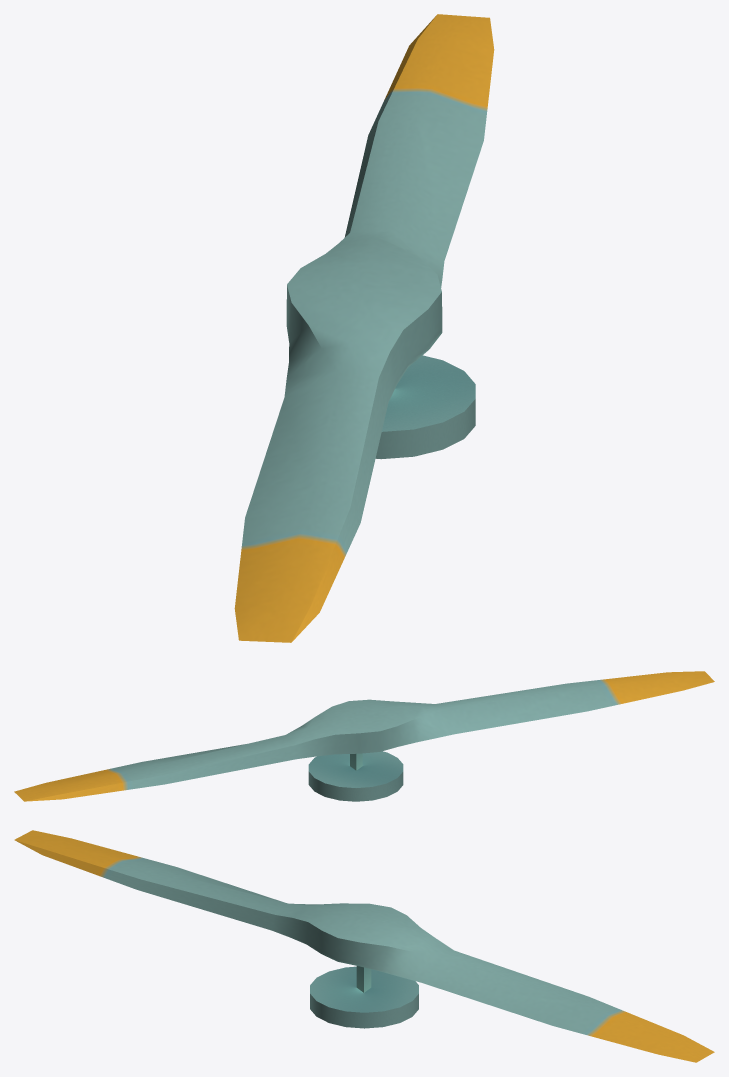
File: propeller_fbx.fbx
The picture shows the model from 3 angles, top to bottom: view 1: azimuth 30°, elevation 25°; view 2: azimuth 150°, elevation 25°; view 3: azimuth 270°, elevation 25°; orthographic projection. The views are drawn at different scales.
Parts seen in each view (by area): view 1: propel, propel_base; view 2: propel, propel_base; view 3: propel, propel_base.
Part boxes in pixels (<box>): propel: <box>234,14,494,642</box>; propel_base: <box>375,355,475,459</box>; propel: <box>14,671,714,801</box>; propel_base: <box>308,751,403,801</box>; propel: <box>14,830,714,1062</box>; propel_base: <box>310,966,418,1028</box>.
Size of the model in its own units: 12.16 by 1.99 by 15.48.
